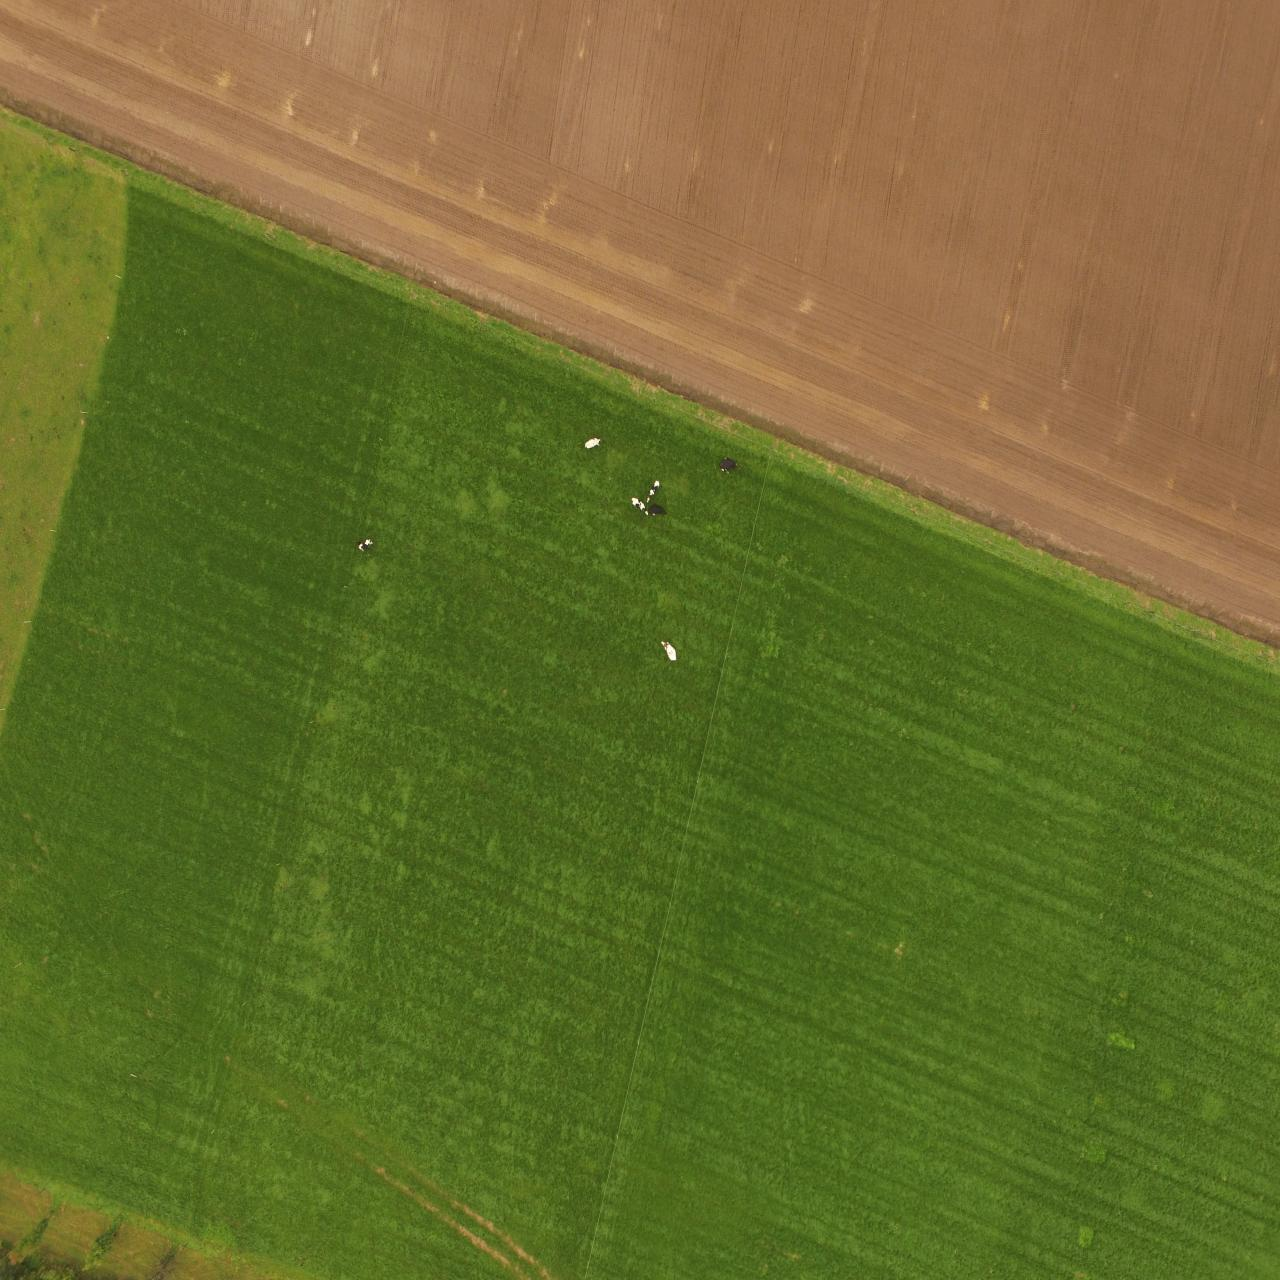cow: (719, 456, 741, 478), (659, 639, 680, 662), (580, 435, 601, 454), (631, 495, 648, 511), (648, 476, 660, 499), (648, 503, 666, 518)
